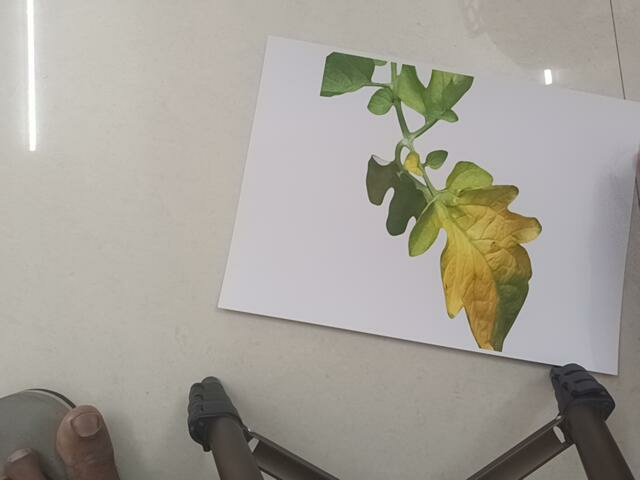Tomamto_Yellow_Disease: (310, 48, 541, 357)
